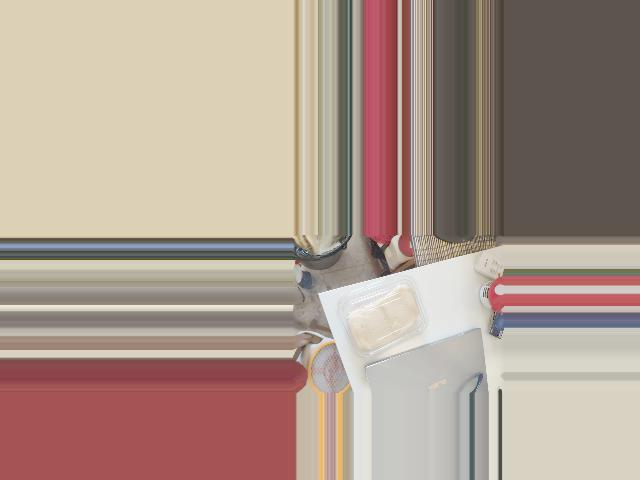cheese: (330, 275, 431, 359)
